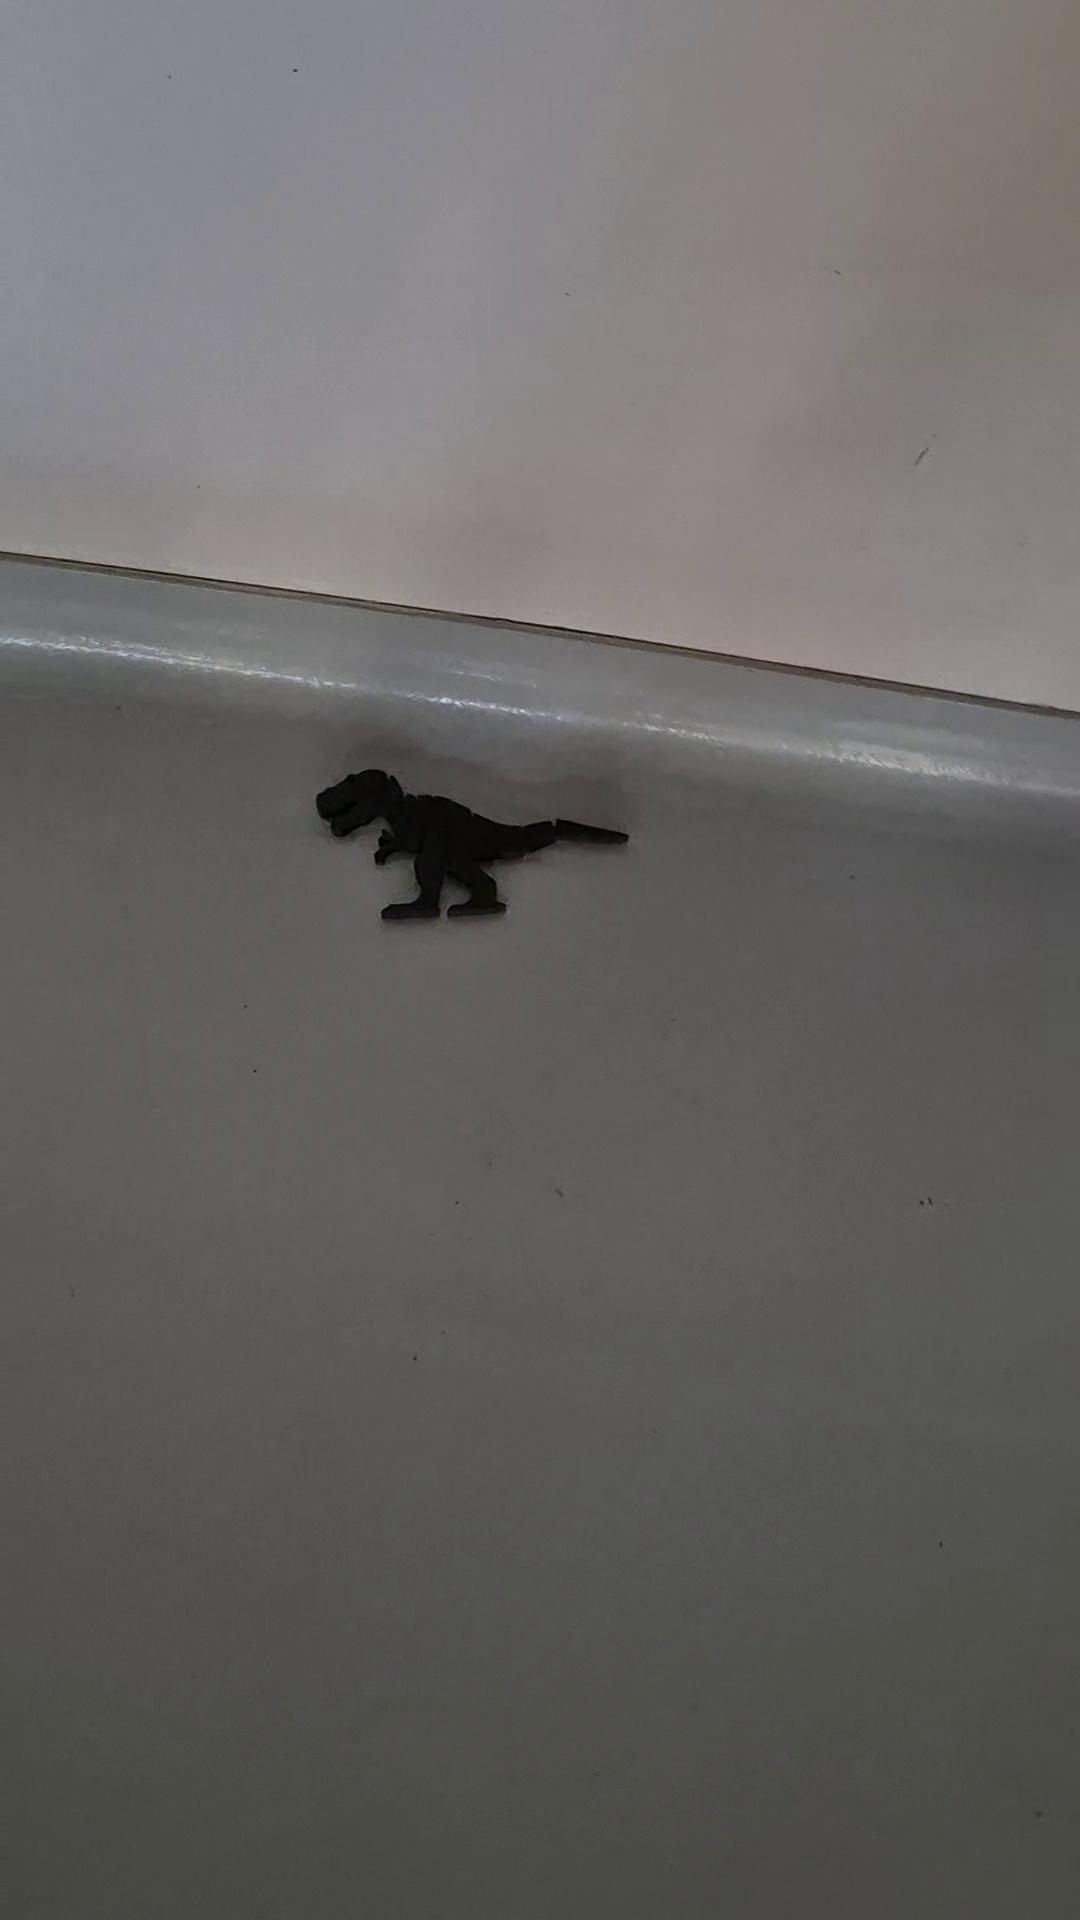dinosaur: (314, 767, 630, 922)
